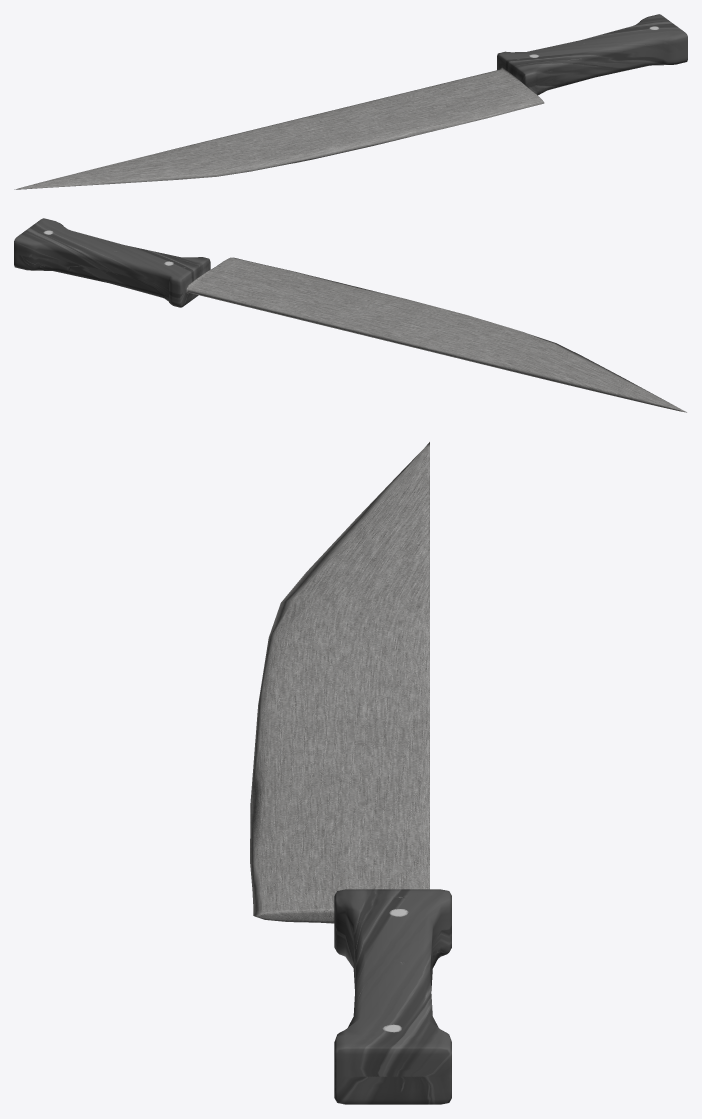
Rendered from Knife_With_Texture.fbx.
3 views of the same model, one above another, from view 1: azimuth 30°, elevation 25°; view 2: azimuth 150°, elevation 25°; view 3: azimuth 270°, elevation 25° (orthographic). The views are drawn at different scales.
Visible parts, largest first — view 1: Smoothed_Knife; view 2: Smoothed_Knife; view 3: Smoothed_Knife.
Boxes of the visible parts, x1,y1,x2,y2 form: Smoothed_Knife: (14, 14, 687, 189); Smoothed_Knife: (14, 218, 686, 412); Smoothed_Knife: (250, 442, 451, 1104).
Bounding box in the file's own units: 3.44 × 0.146 × 0.462.
